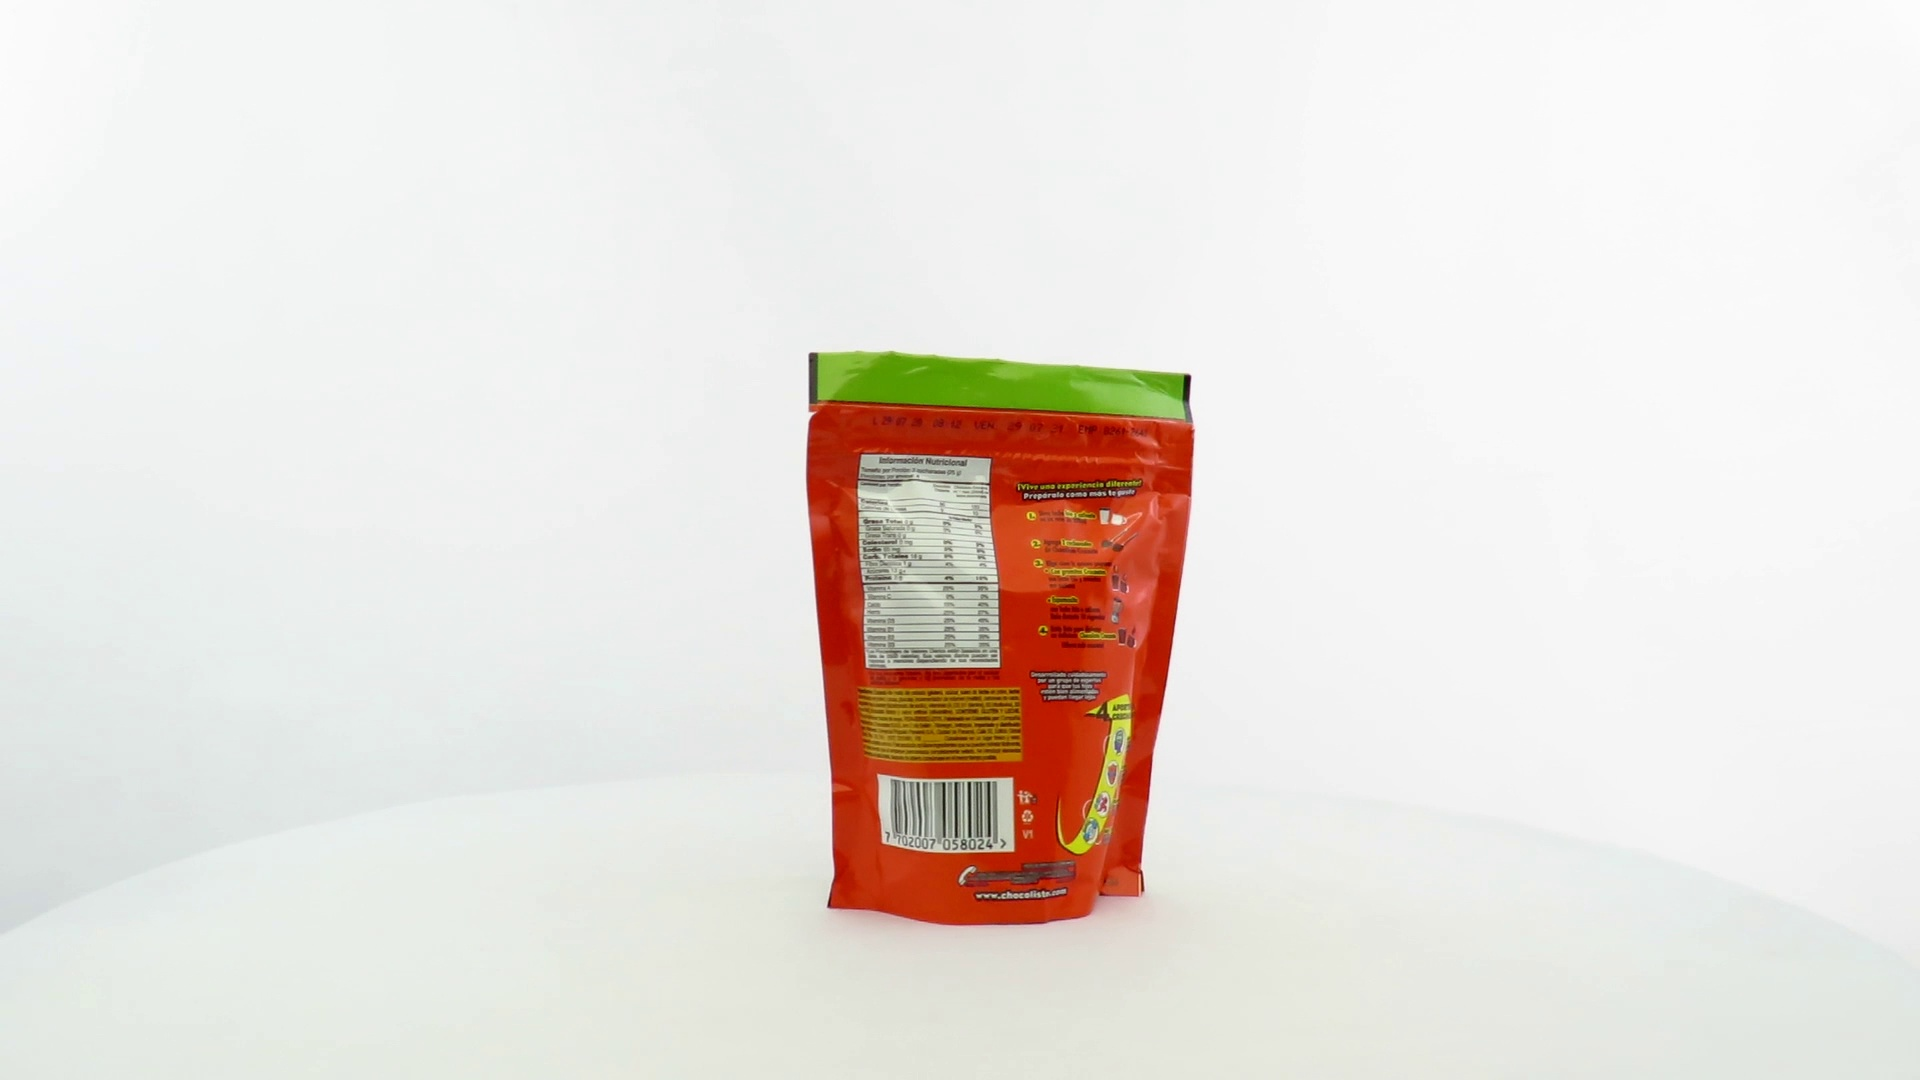COL0170102DYP10000: (800, 345, 1201, 932)
